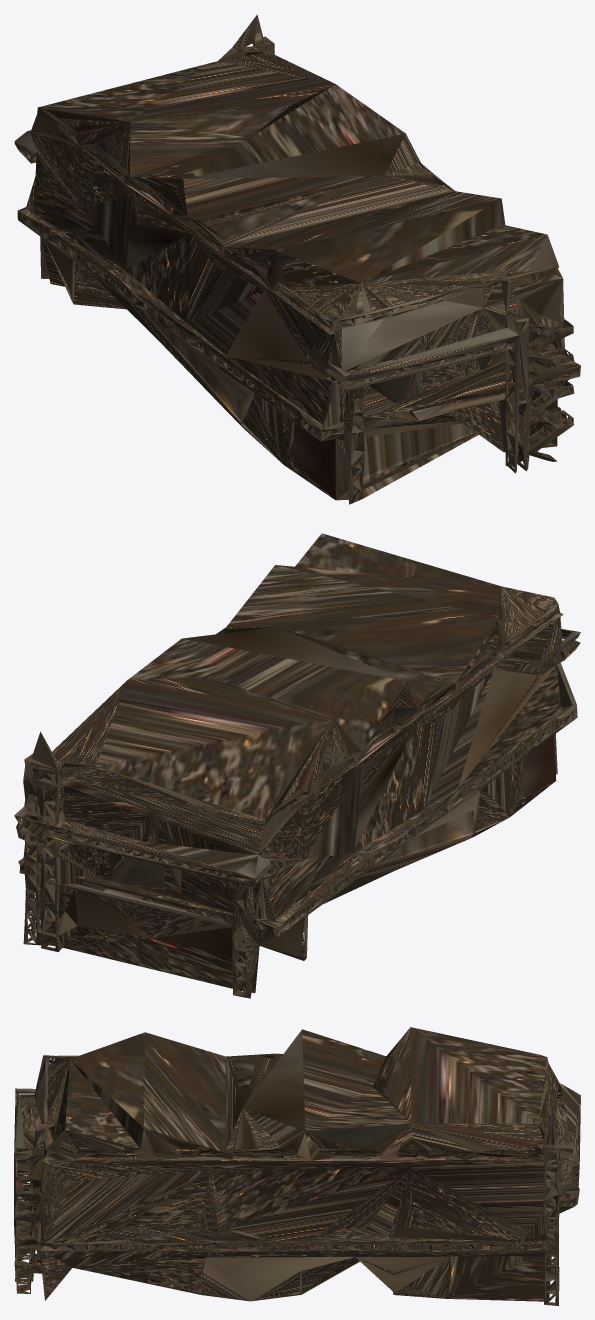
Rendered from f01_far.glb.
3 views of the same model, one above another, from view 1: azimuth 30°, elevation 25°; view 2: azimuth 150°, elevation 25°; view 3: azimuth 270°, elevation 25° (orthographic). The views are drawn at different scales.
Parts seen in each view (by area): view 1: f01_far; view 2: f01_far; view 3: f01_far.
Part boxes in pixels (x1,y1,x2,y2): f01_far: (14,14,580,504); f01_far: (14,533,580,998); f01_far: (14,1027,580,1305).
Size of the model in its own units: 32.36 by 26 by 71.16.
Materials: 1 (1 with a texture image).
